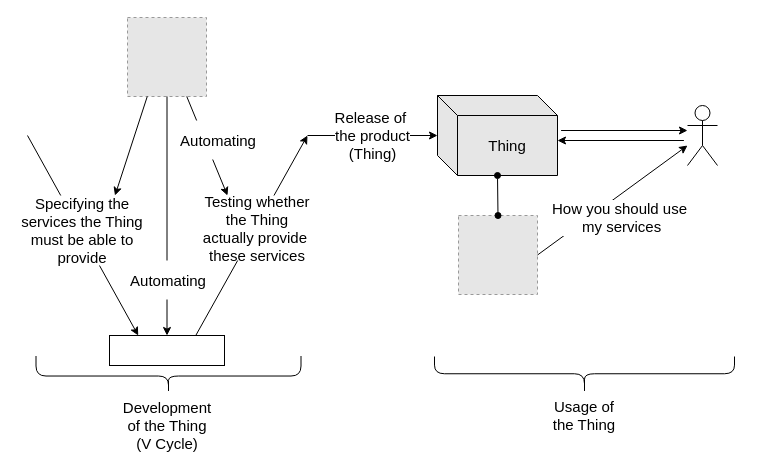
Some shapes in this 761 by 470 pixel diagram are drawn without their labels. Grey dashed boxes stand in for pictures. Here are the shapes that lost their labels. From the top down, the box of each, then its label:
(686, 104, 718, 166): Thing's User
(108, 334, 224, 366): Implementation
